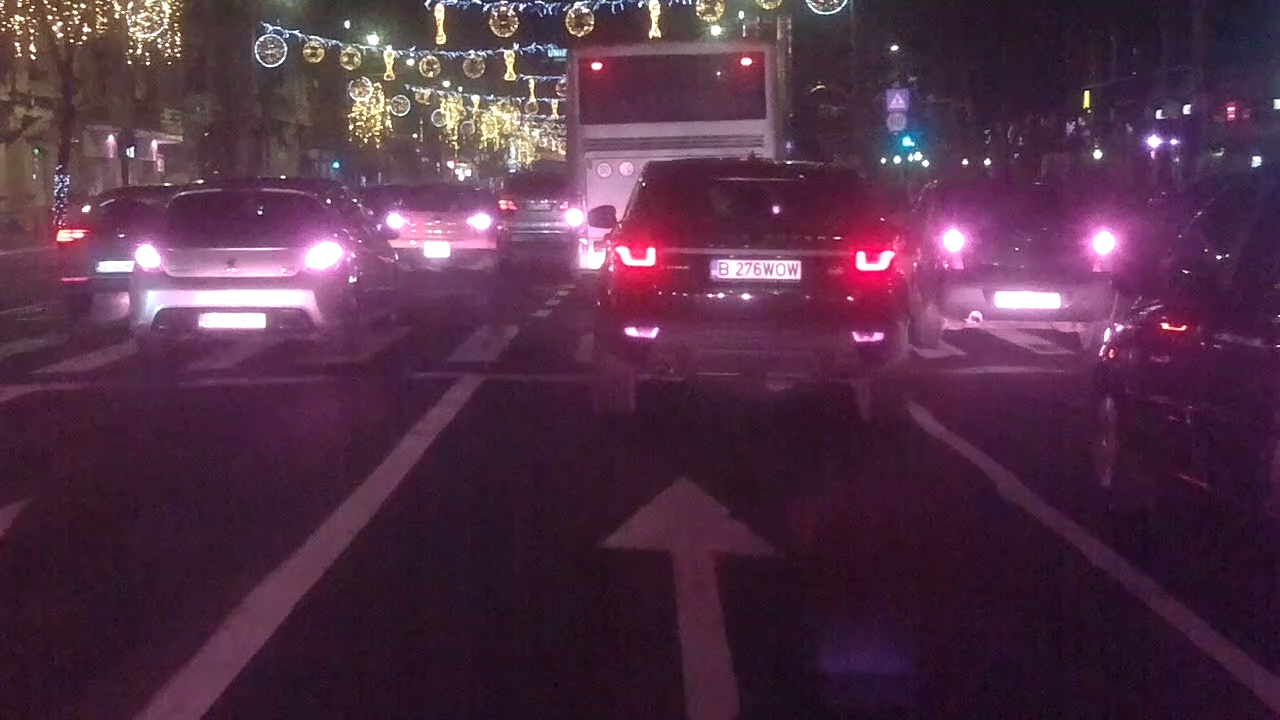license-plate: (705, 255, 805, 283)
